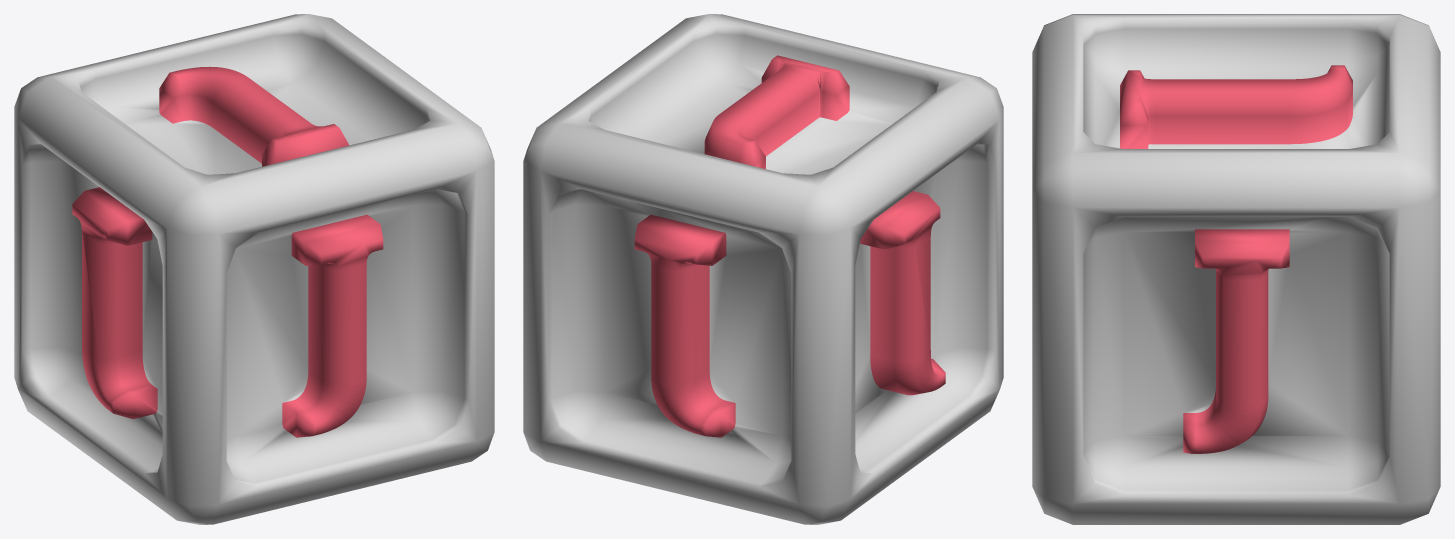
The picture shows the model from 3 angles, left to right: view 1: azimuth 30°, elevation 25°; view 2: azimuth 150°, elevation 25°; view 3: azimuth 270°, elevation 25°; orthographic projection. The views are drawn at different scales.
Parts seen in each view (by area): view 1: obj_0; view 2: obj_0; view 3: obj_0.
Part boxes in pixels (box(x1,y1,x2,y2)): obj_0: box(14, 14, 494, 524); obj_0: box(523, 14, 1003, 524); obj_0: box(1032, 14, 1440, 524).
Bounding box in the file's own units: 100 × 100 × 100.
